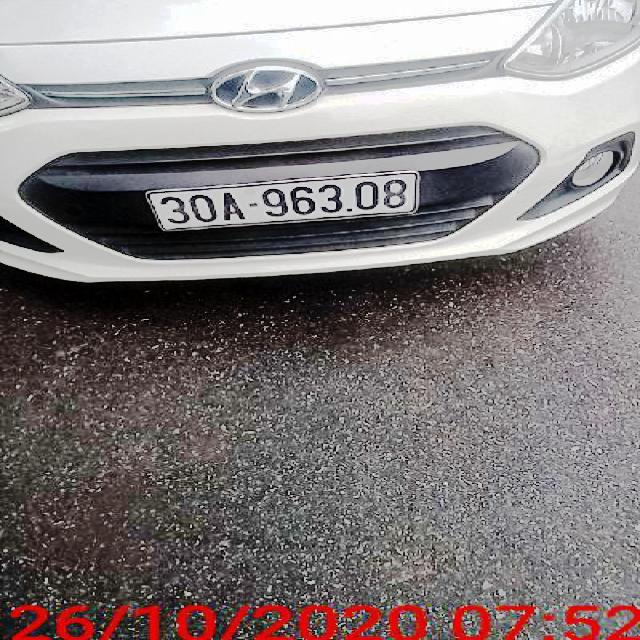license_plate: (152, 170, 424, 231)
